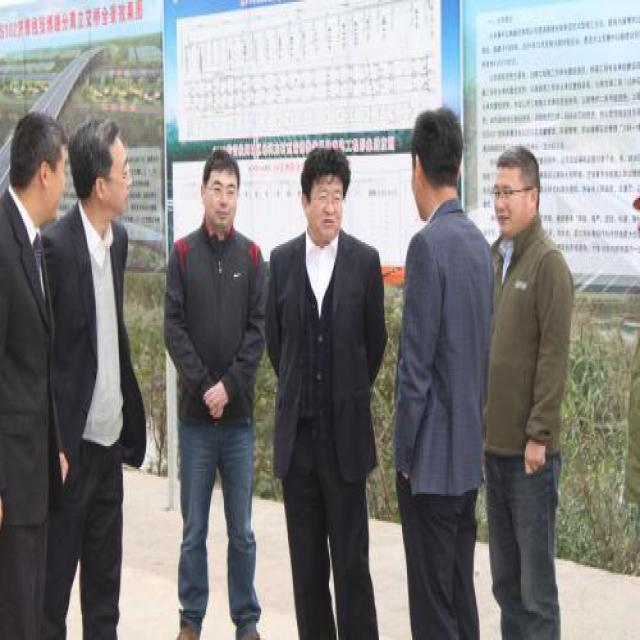no hat: (10, 106, 74, 230), (407, 98, 467, 223), (61, 119, 130, 227), (296, 142, 354, 244), (488, 140, 546, 240), (197, 142, 245, 238)
